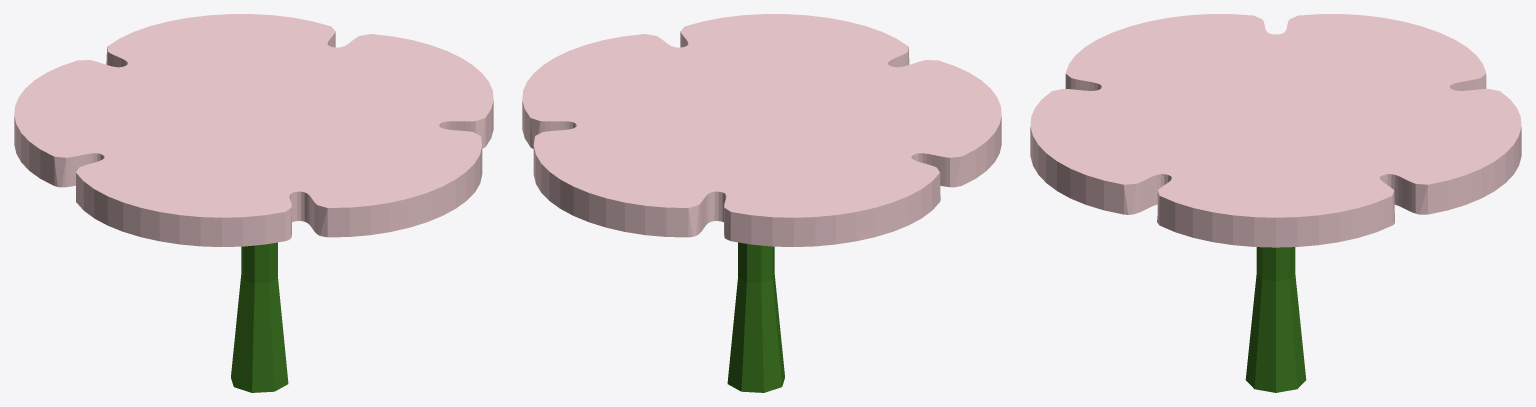
The model's file is Flower_table_2.fbx.
3 views of the same model, side by side, from view 1: azimuth 30°, elevation 25°; view 2: azimuth 150°, elevation 25°; view 3: azimuth 270°, elevation 25° (orthographic).
Parts seen in each view (by area): view 1: Flower_table_2; view 2: Flower_table_2; view 3: Flower_table_2.
Boxes of the visible parts, x1,y1,x2,y2 form: Flower_table_2: (14, 14, 493, 392); Flower_table_2: (522, 14, 1001, 392); Flower_table_2: (1030, 14, 1521, 392).
Size of the model in its own units: 62.95 by 38.62 by 64.11.
